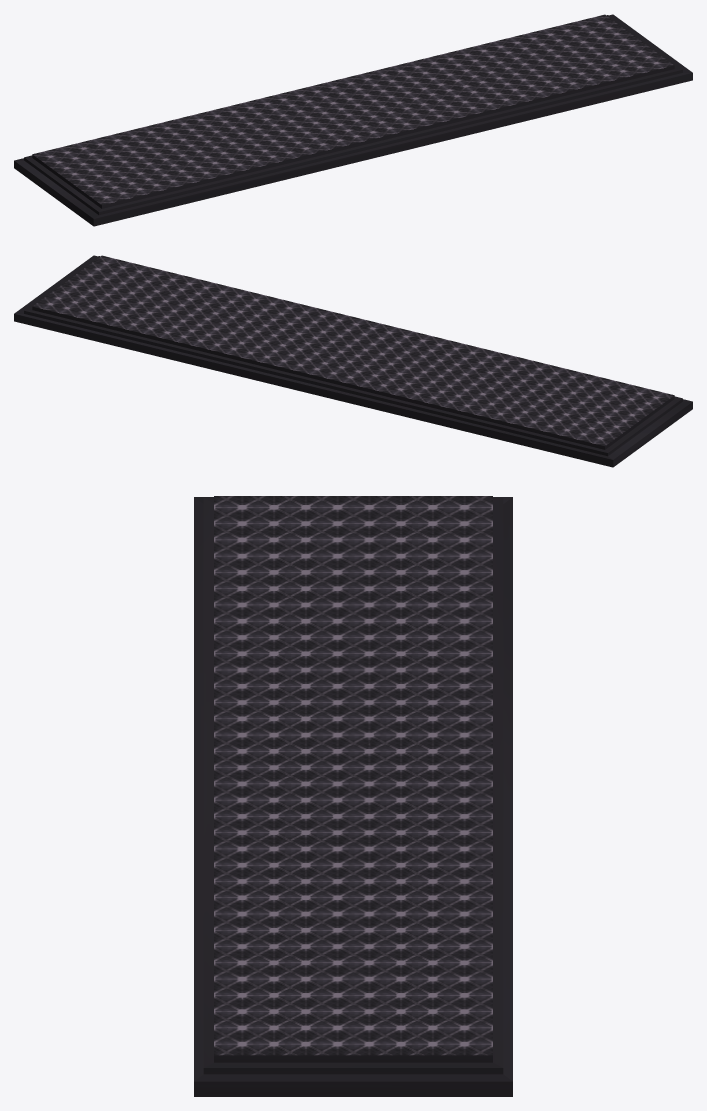
The model's file is Ceiling_Hall.glb.
3 views of the same model, one above another, from view 1: azimuth 30°, elevation 25°; view 2: azimuth 150°, elevation 25°; view 3: azimuth 270°, elevation 25° (orthographic). The views are drawn at different scales.
Visible parts, largest first — view 1: Roof; view 2: Roof; view 3: Roof.
Boxes of the visible parts, box(x1,y1,x2,y2) form: Roof: box(14, 14, 692, 226); Roof: box(14, 255, 692, 467); Roof: box(194, 496, 512, 1096).
Size of the model in its own units: 130 by 2.98 by 30.
Materials: 1 (1 with a texture image).
